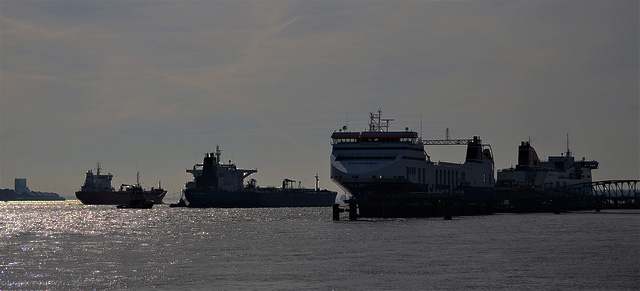bulk carrier: (77, 167, 168, 206)
container_ship: (326, 125, 497, 213)
tanker: (184, 152, 335, 212)
